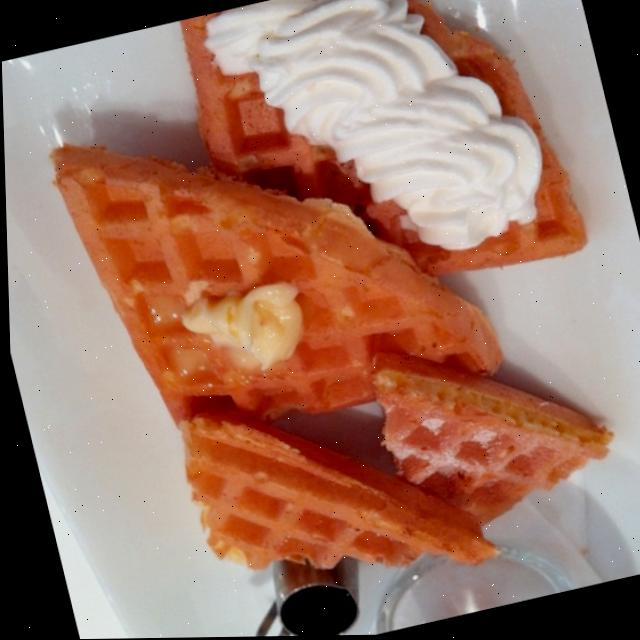炸货点心: (1, 0, 640, 640)
蛋糕甜品: (1, 0, 640, 640)
